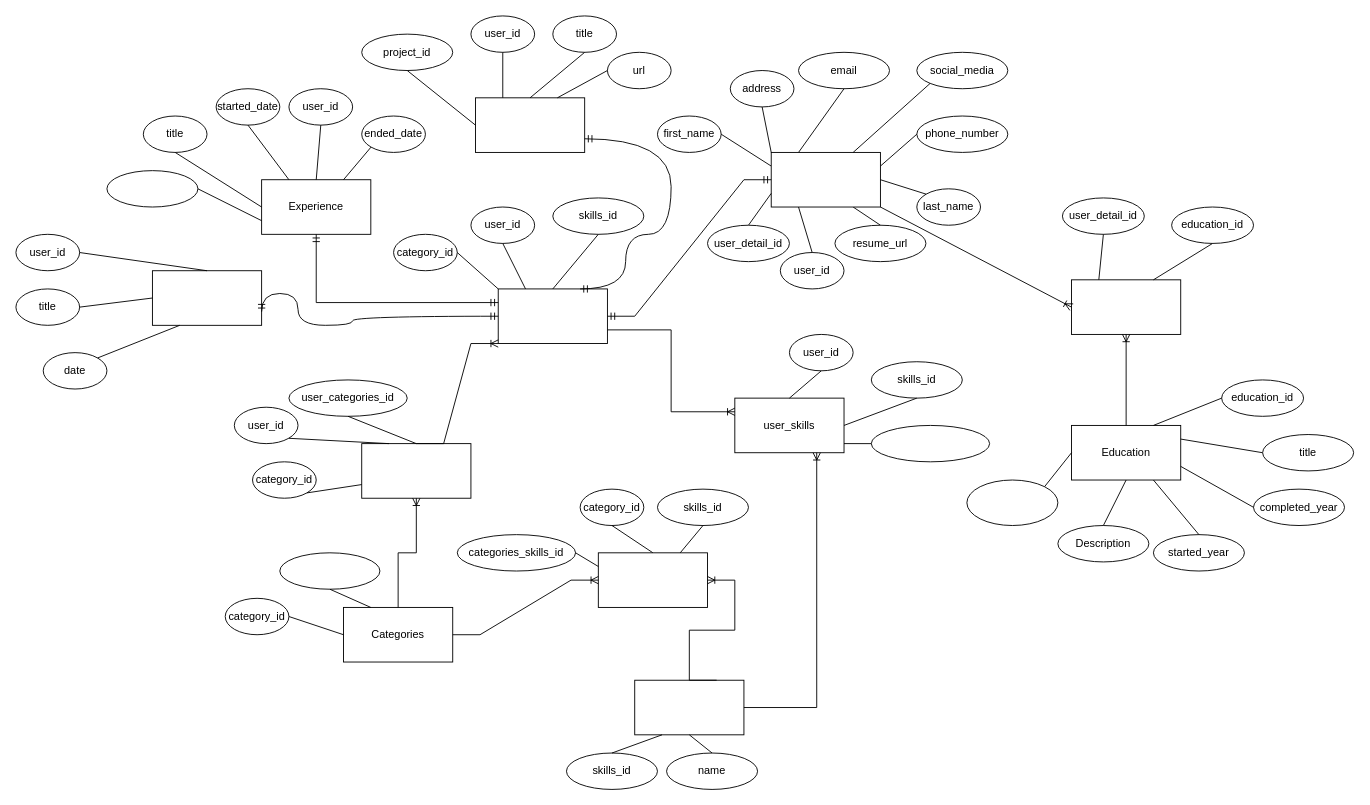
The diagram is 1370 pixels wide and 805 high, and some of its shapes have lost their labels. The shapes that lost their labels are listed below. From the top down, each one's centre as x and y in pixels, then its label:
At (530,124): "Projects".
At (152,188): "experience_id".
At (825,179): "User_Details".
At (207,297): "Certificate".
At (552,316): "User".
At (1126,306): "Education_User".
At (930,443): "user_skills_id".
At (416,470): "user_categories".
At (1012,502): "percentage/grade".
At (329,570): "category_name".
At (652,579): "categories_skills".
At (689,707): "Skiils".
